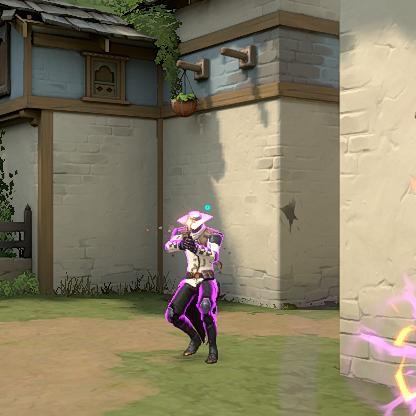enemyBody: (187, 237, 211, 275)
enemyHead: (187, 221, 202, 233)
